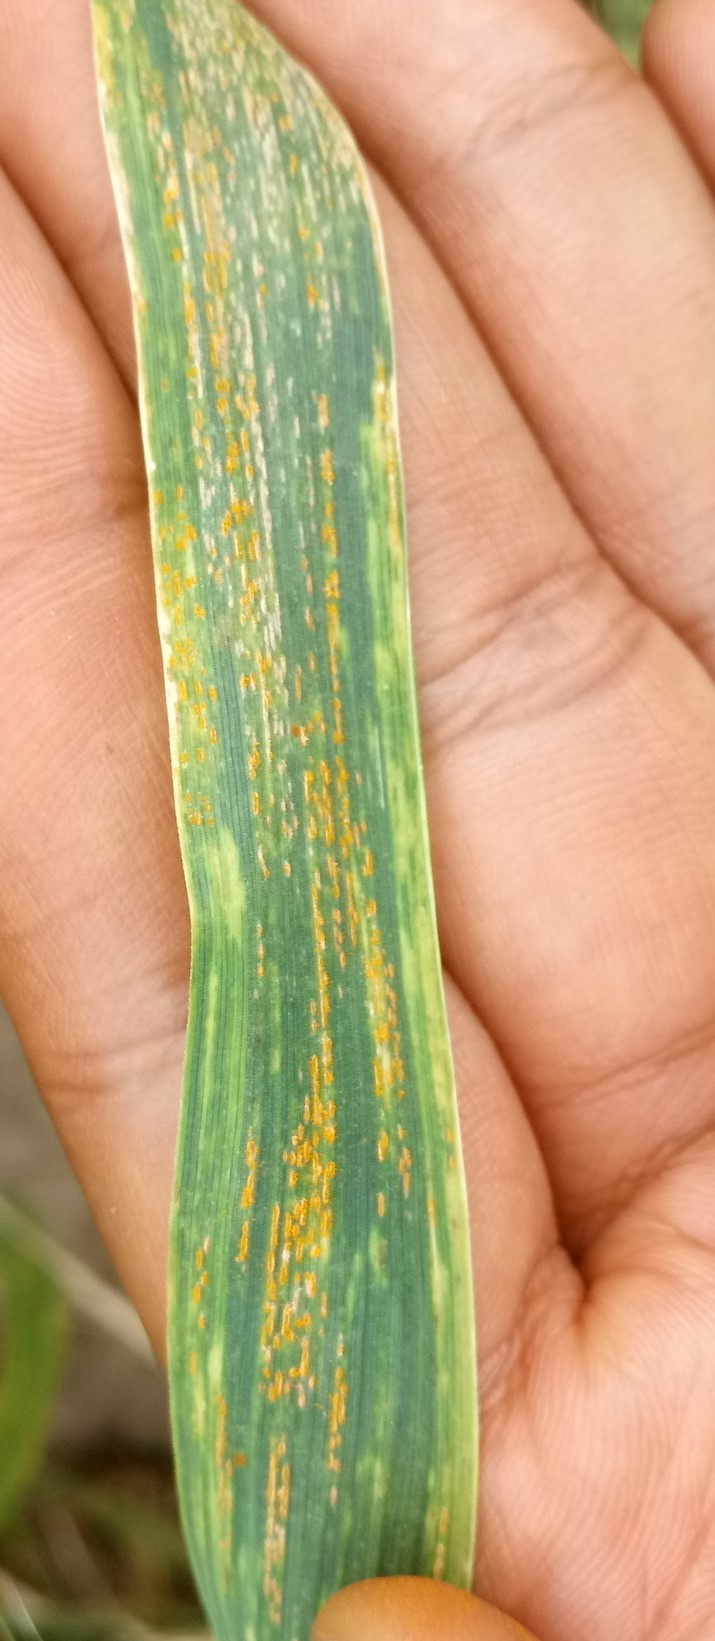Leaf Rust: (128, 174, 467, 1464)
